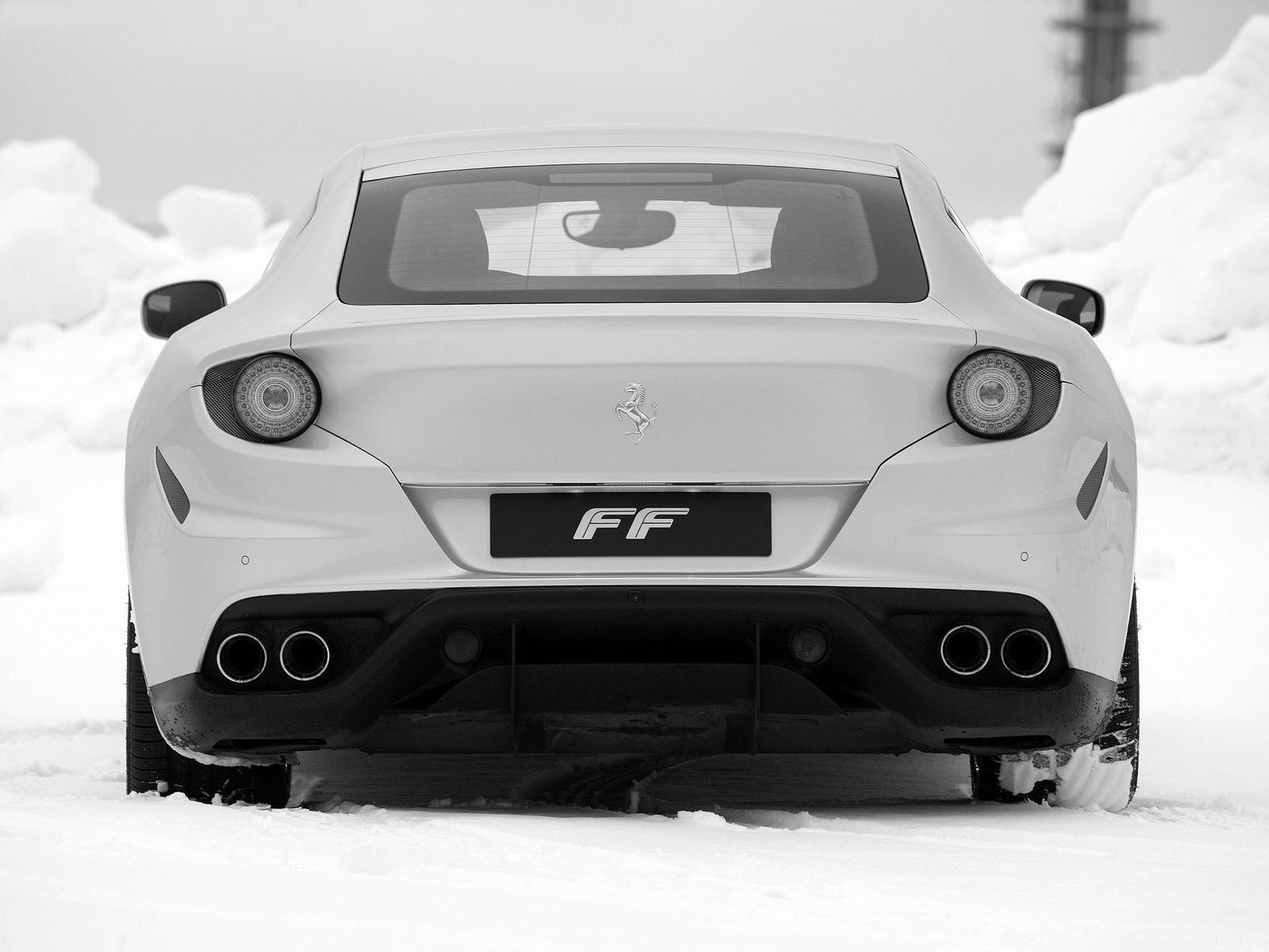car: (120, 132, 1143, 815)
